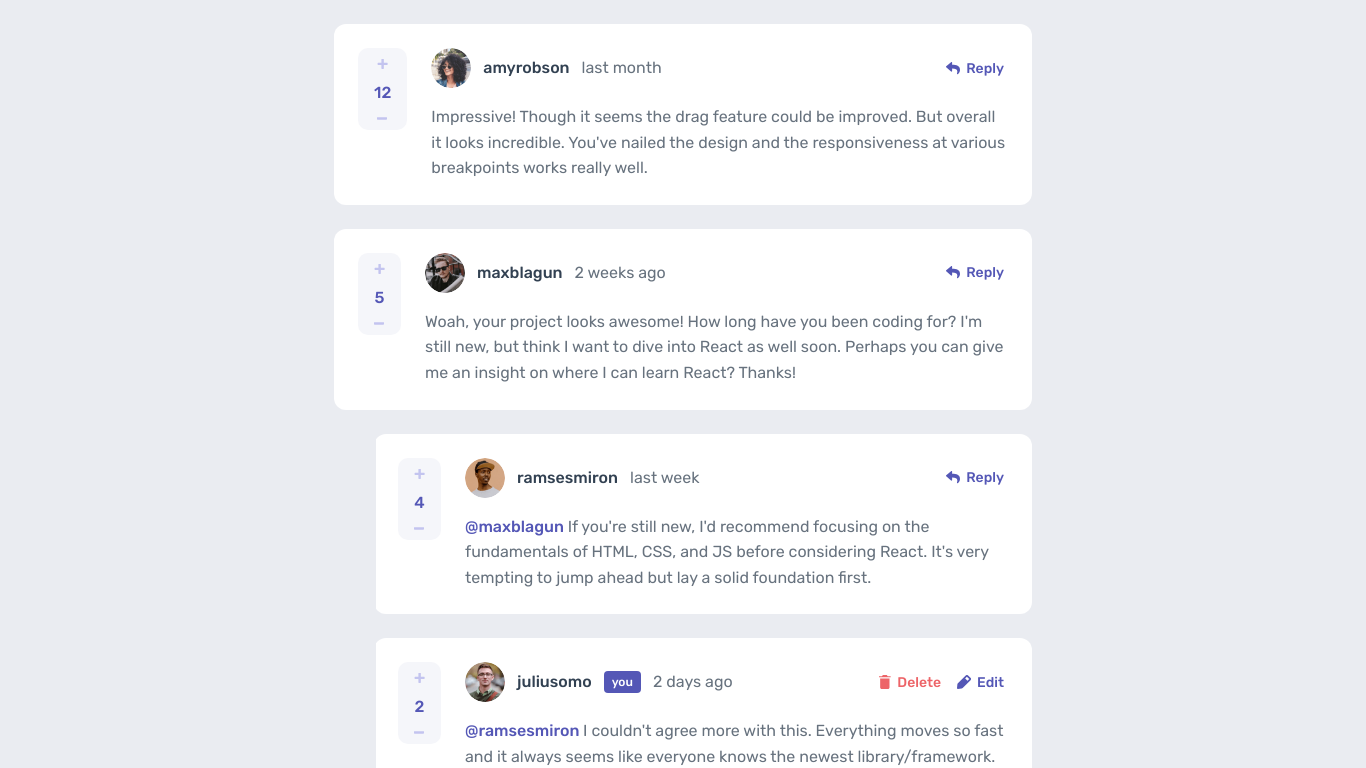
App integration › clicking Delete opens confirmation modal
Click the button "Delete". click: (910, 682)
box: [875,668,945,697]
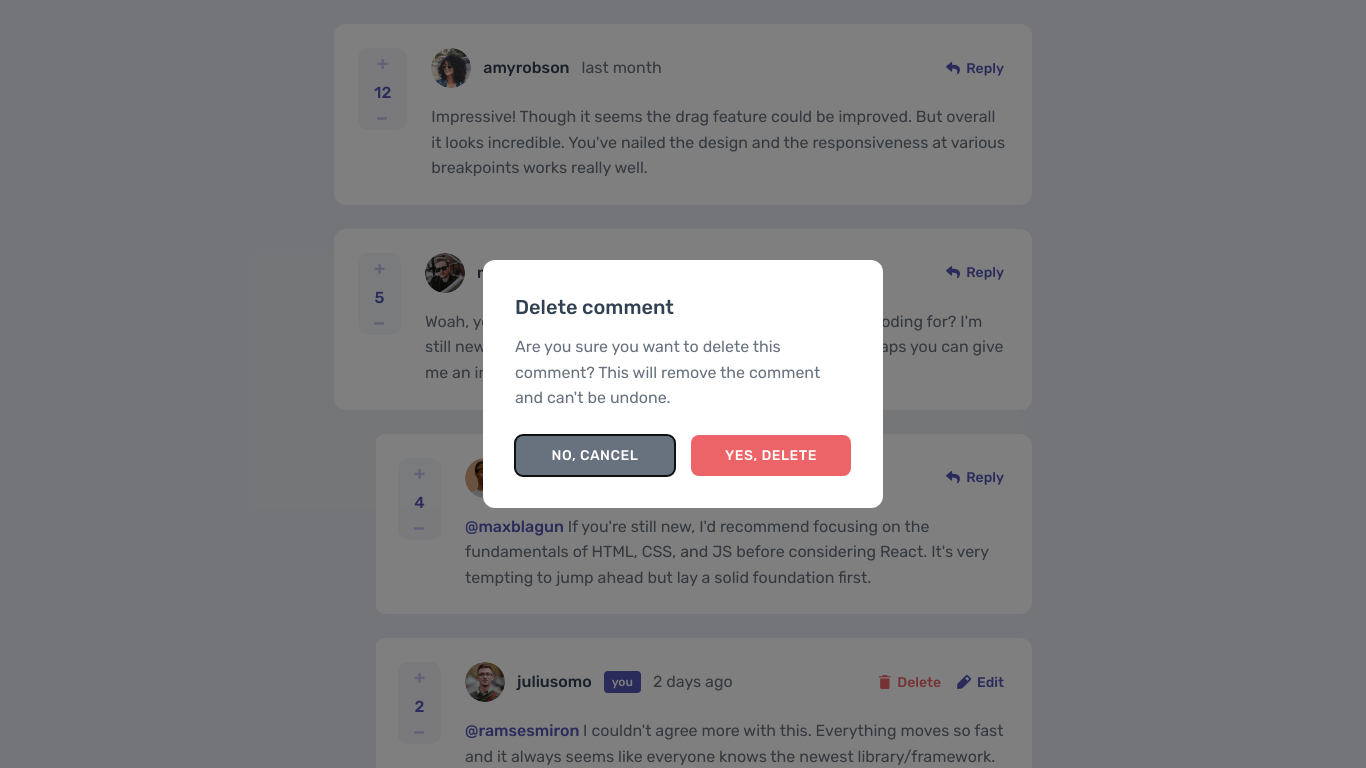
Check: the heading "Delete comment" is shown, box [515,295,674,319]
Check: the text "Are you sure you want to delete" is shown, box [515,337,820,407]
